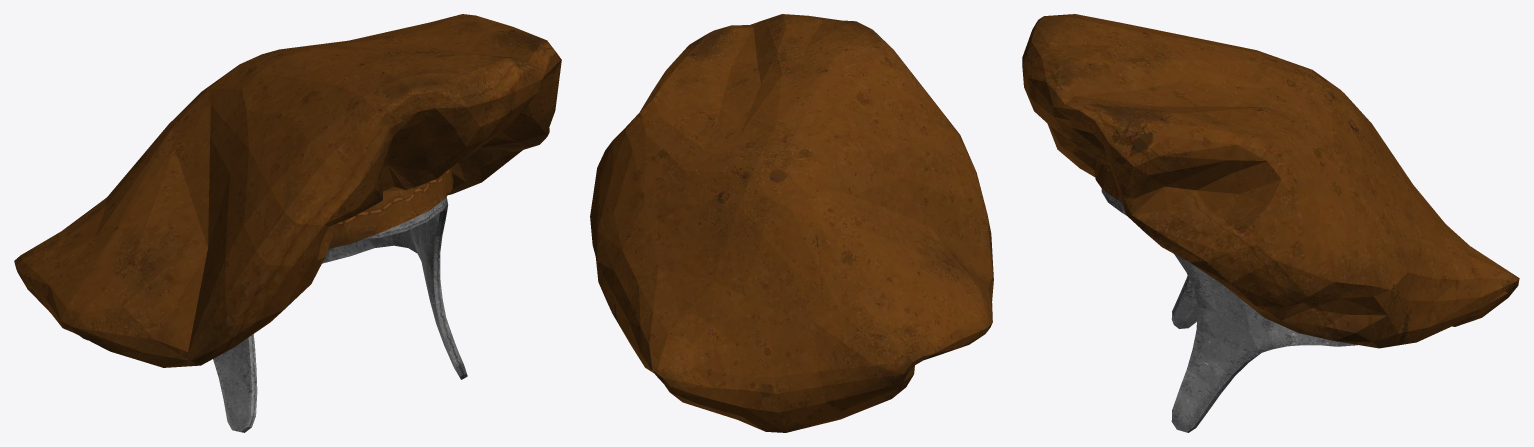
Rendered from CZAPKA_MALARZA.glb.
The picture shows the model from 3 angles, left to right: view 1: azimuth 30°, elevation 25°; view 2: azimuth 150°, elevation 25°; view 3: azimuth 270°, elevation 25°; orthographic projection. The views are drawn at different scales.
Parts seen in each view (by area): view 1: CZAPKA_MALARZA; view 2: CZAPKA_MALARZA; view 3: CZAPKA_MALARZA.
Boxes of the visible parts, <box> form: CZAPKA_MALARZA: <box>14,14,561,432</box>; CZAPKA_MALARZA: <box>590,14,993,432</box>; CZAPKA_MALARZA: <box>1022,14,1519,432</box>.
Bounding box in the file's own units: 0.4336 × 0.3257 × 0.4072.
1 material, 1 textured.
